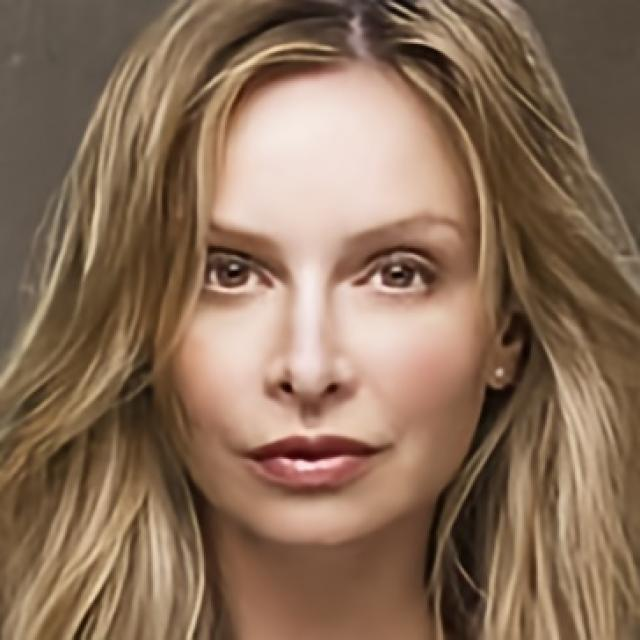content: (165, 77, 489, 545)
